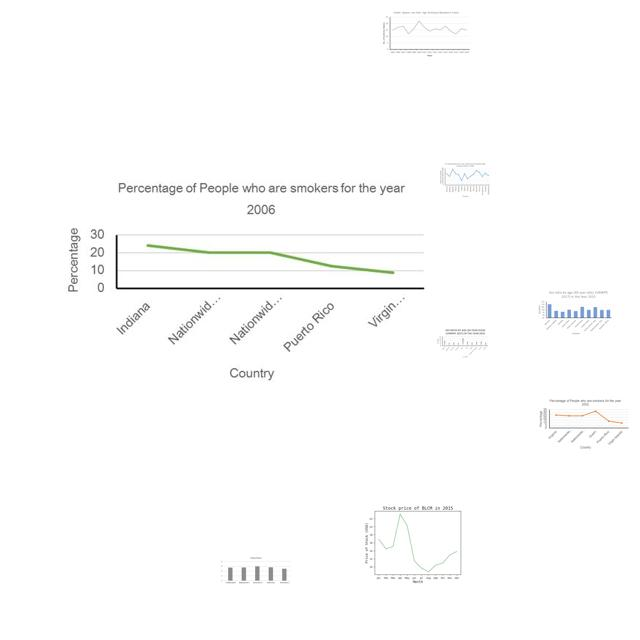Graph: (57, 169, 431, 386), (361, 501, 472, 584), (538, 397, 630, 451), (381, 10, 471, 59), (536, 290, 613, 336), (220, 555, 292, 585), (438, 162, 491, 198), (436, 328, 489, 358)
